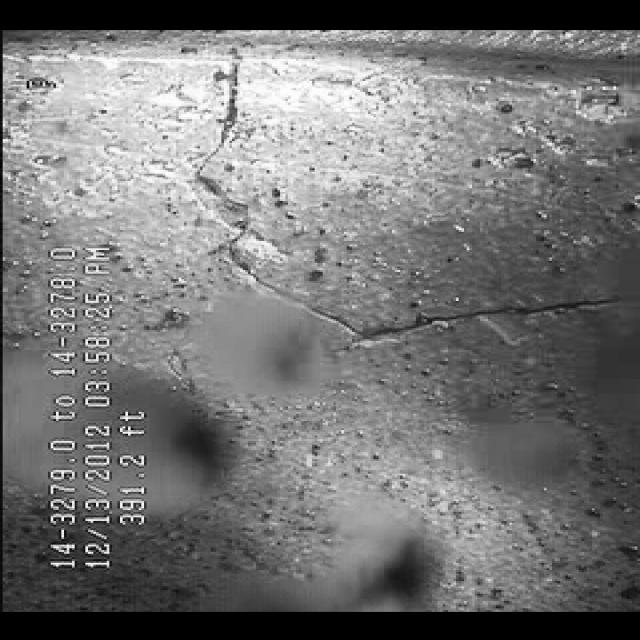Crack: (139, 66, 637, 346)
